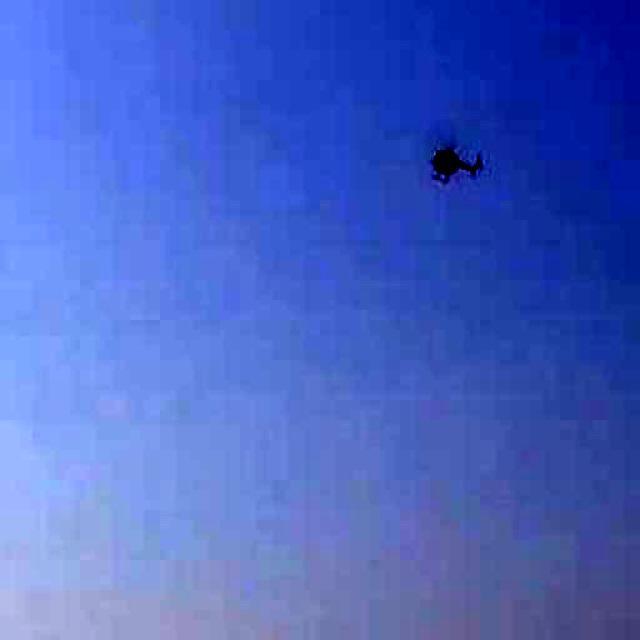drone: (388, 92, 501, 224)
